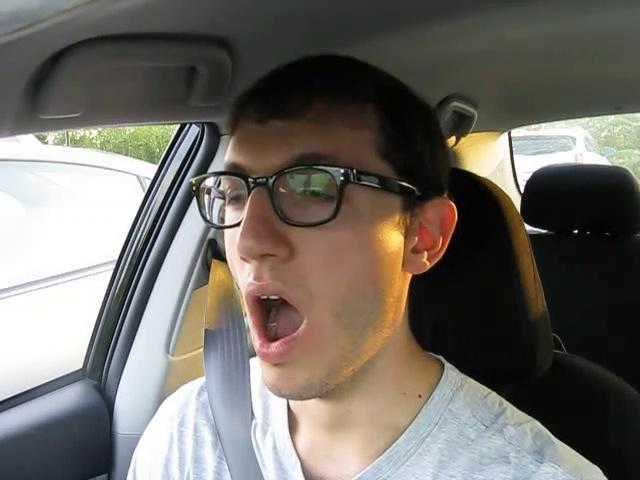close_eyeL: (207, 172, 266, 220)
close_eyeR: (273, 174, 349, 226)
yawn: (231, 284, 324, 364)
